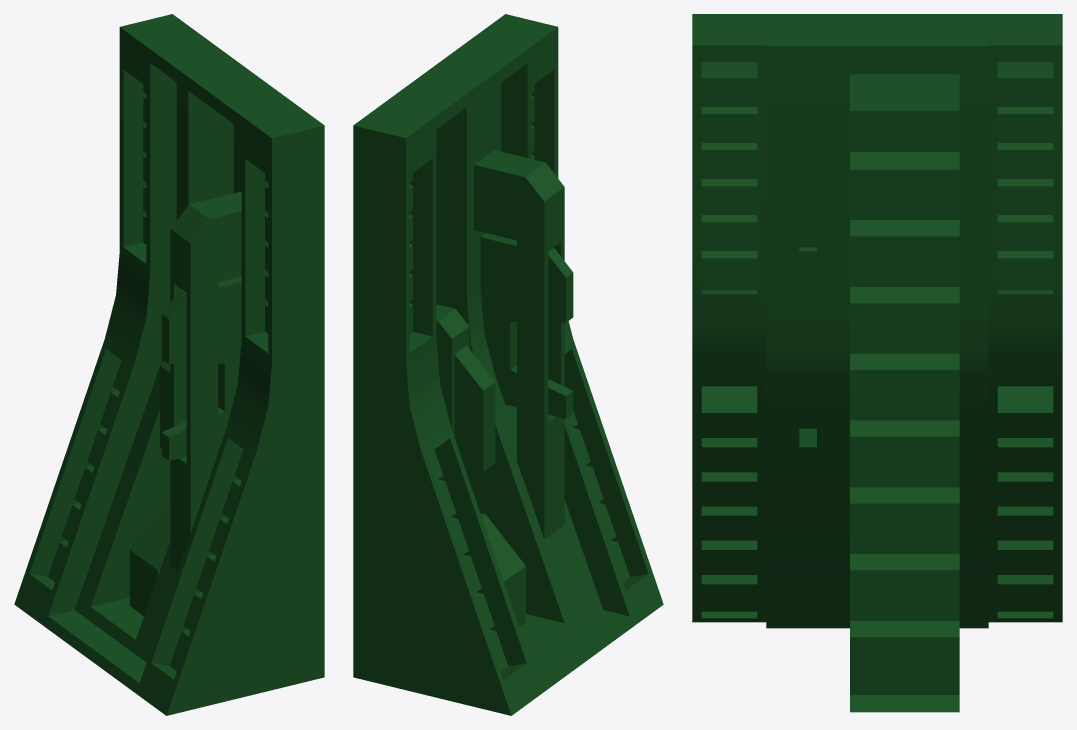
The model's file is Wall_B_4x2m_B.FBX.
3 renders of one model, left to right at view 1: azimuth 30°, elevation 25°; view 2: azimuth 150°, elevation 25°; view 3: azimuth 270°, elevation 25°, orthographic. The views are drawn at different scales.
Parts seen in each view (by area): view 1: Wall_B_4x2m_B; view 2: Wall_B_4x2m_B; view 3: Wall_B_4x2m_B.
Part boxes in pixels (x1=…): Wall_B_4x2m_B: x1=14, y1=14, x2=324, y2=715; Wall_B_4x2m_B: x1=353, y1=14, x2=663, y2=715; Wall_B_4x2m_B: x1=692, y1=14, x2=1062, y2=712.
Bounding box in the file's own units: 147 × 400 × 200.
